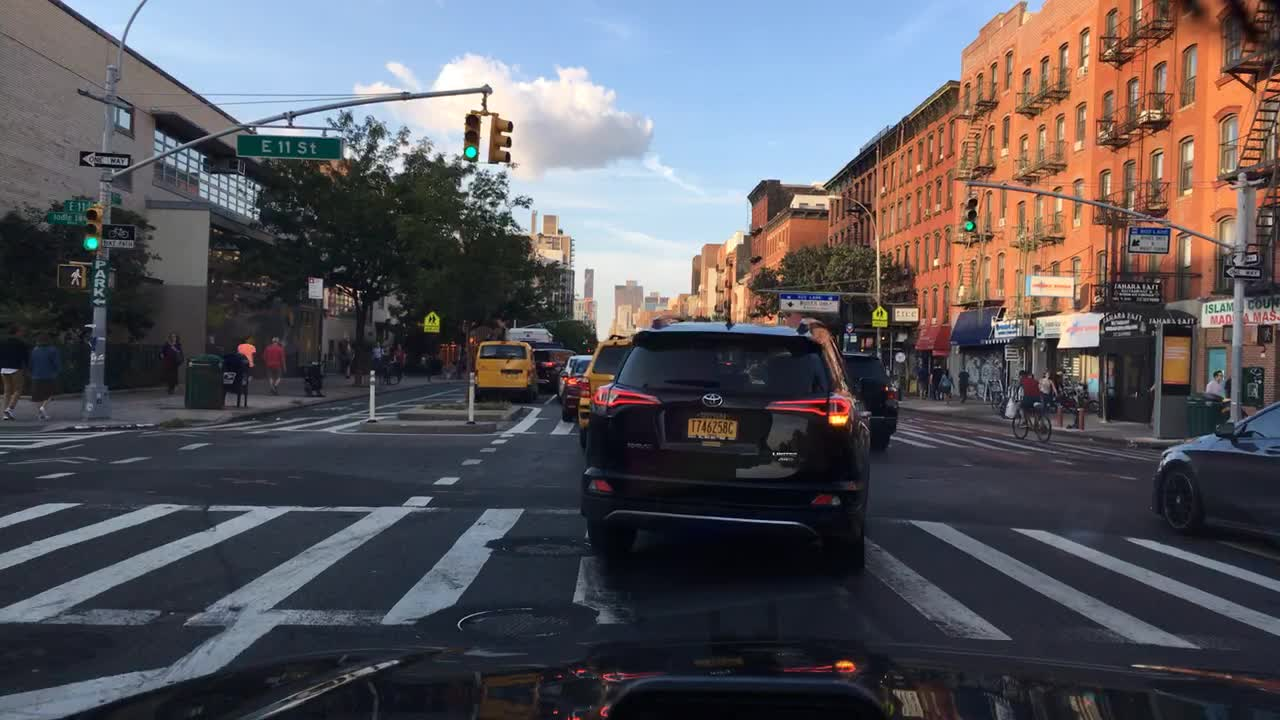bike: (1010, 401, 1054, 444), (1063, 380, 1100, 415)
car: (577, 309, 879, 571), (1150, 400, 1278, 537), (580, 333, 635, 442), (842, 351, 895, 446), (472, 341, 534, 404), (561, 356, 592, 421), (531, 346, 573, 388)
motor: (304, 361, 326, 398)
person: (28, 333, 61, 420), (1, 323, 27, 420), (227, 351, 254, 408), (260, 335, 286, 394), (160, 328, 183, 394), (238, 335, 255, 378), (928, 361, 942, 401), (1038, 373, 1058, 401), (341, 341, 355, 380), (1206, 369, 1226, 396), (955, 364, 969, 401), (938, 368, 954, 398), (369, 344, 383, 376), (394, 341, 406, 365), (917, 361, 925, 396)
rider: (1013, 371, 1041, 426)
traffic light: (489, 112, 514, 163), (462, 112, 480, 162), (82, 208, 102, 253), (54, 262, 89, 286), (1251, 325, 1272, 343), (965, 197, 974, 230), (1221, 324, 1234, 341)
traffic sign: (235, 134, 341, 158), (1126, 227, 1170, 253), (781, 293, 840, 311), (102, 225, 137, 247), (79, 152, 129, 167), (94, 260, 104, 306), (48, 212, 87, 223), (870, 304, 888, 326), (1225, 267, 1261, 278), (422, 311, 440, 330), (64, 202, 96, 212), (1231, 253, 1256, 265), (112, 193, 123, 204)
truck: (506, 326, 551, 345)
